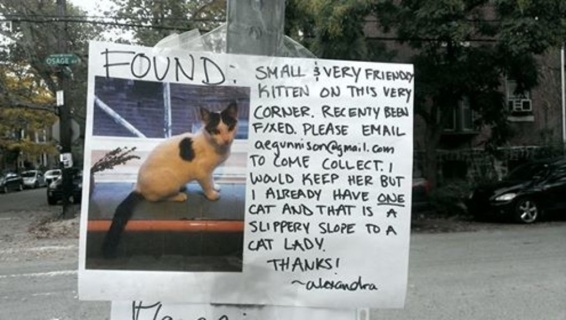Cat: (99, 103, 238, 259)
